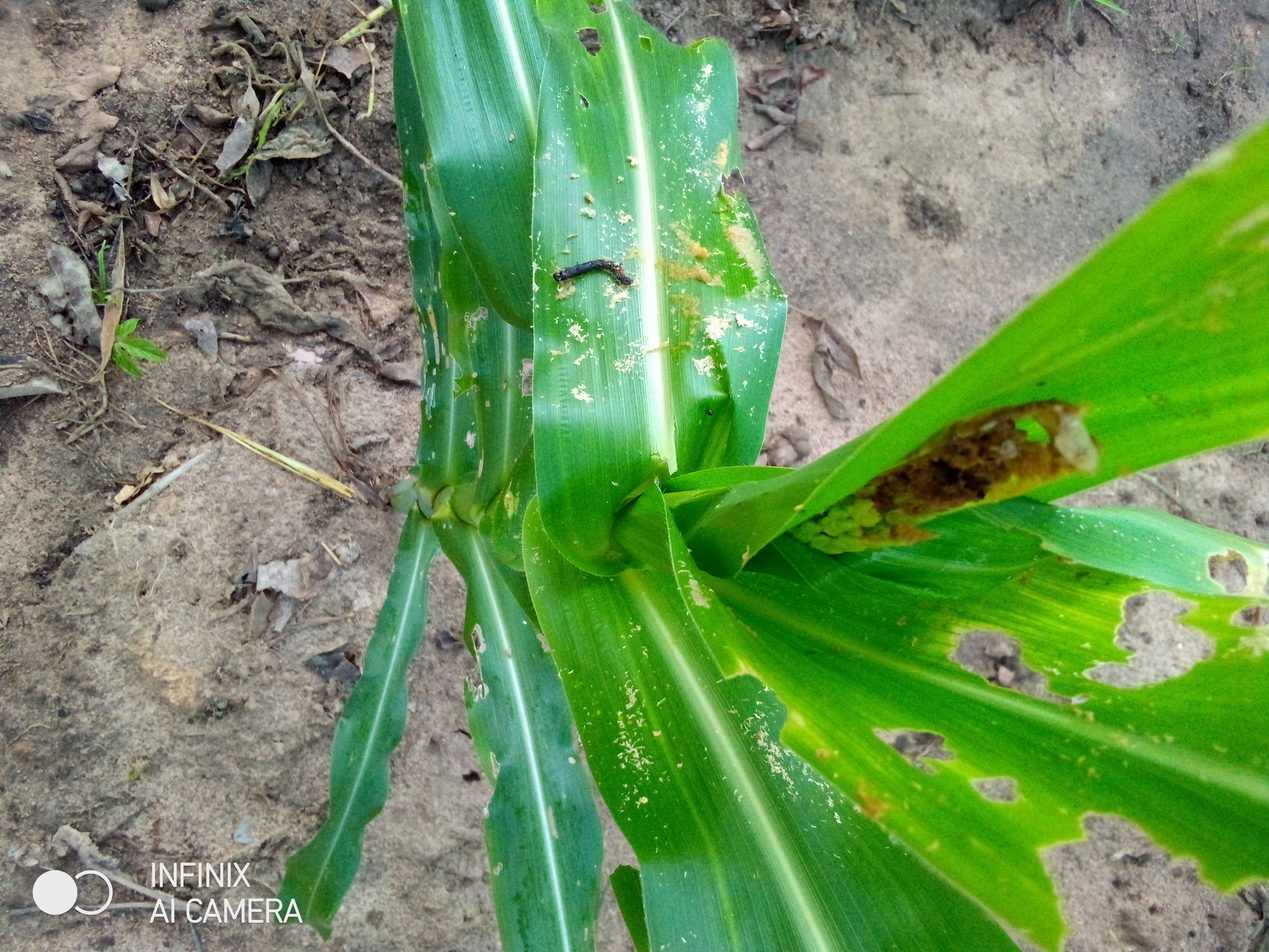early_to_moderate: (533, 59, 793, 384), (544, 601, 738, 823), (863, 391, 1106, 536), (731, 700, 876, 845), (1035, 692, 1227, 770), (479, 128, 553, 167)
severe: (965, 761, 1269, 952), (1035, 548, 1269, 713), (933, 595, 1086, 737), (722, 651, 823, 766), (862, 702, 991, 780), (714, 153, 765, 207), (563, 1, 611, 54), (628, 24, 663, 65), (689, 31, 733, 62), (564, 82, 594, 105)
